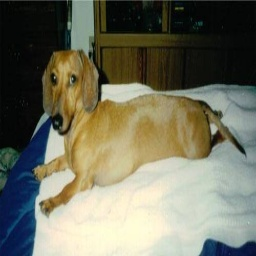dog: (32, 45, 234, 220)
